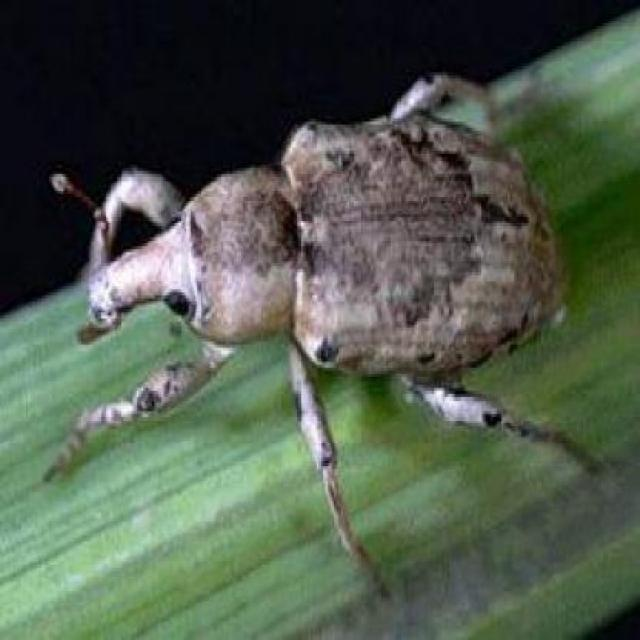rice-bug: (70, 77, 572, 514)
